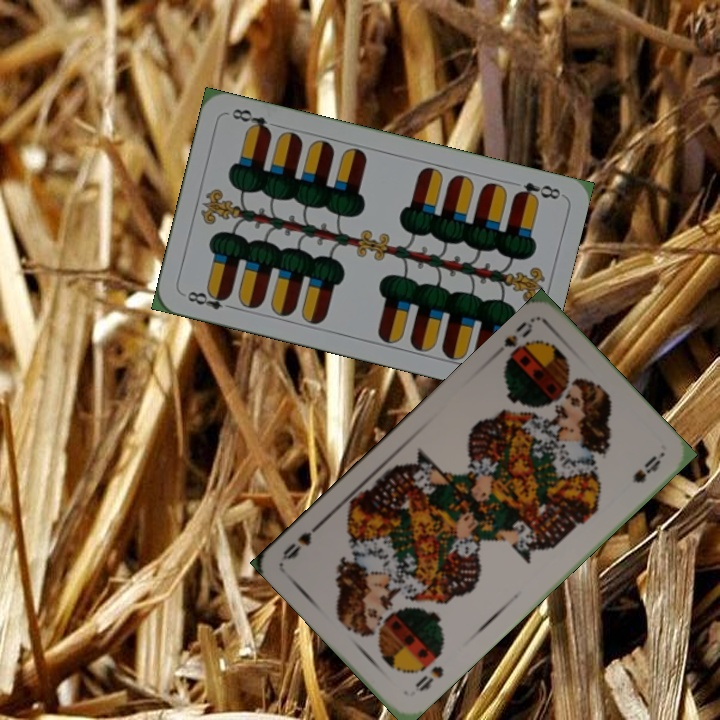E8: (183, 286, 238, 312), (511, 178, 563, 204)
SO: (488, 315, 536, 370), (410, 662, 446, 695)
